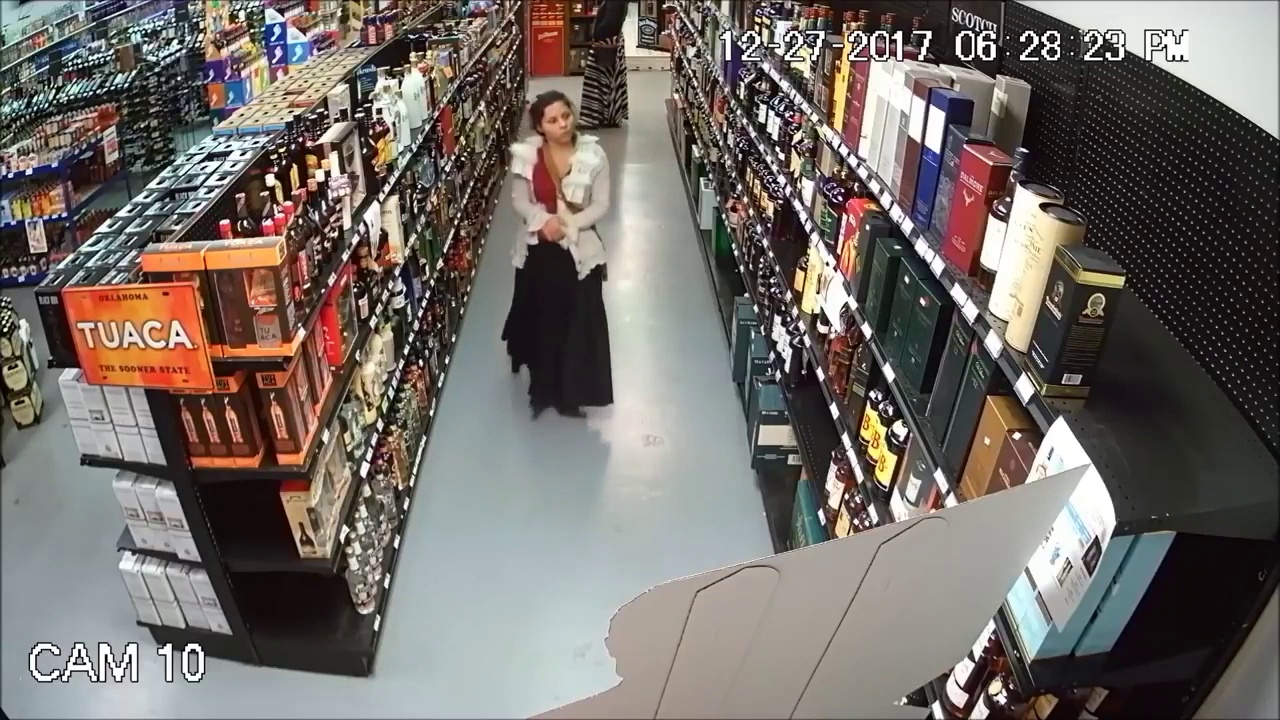face: (534, 96, 578, 146)
